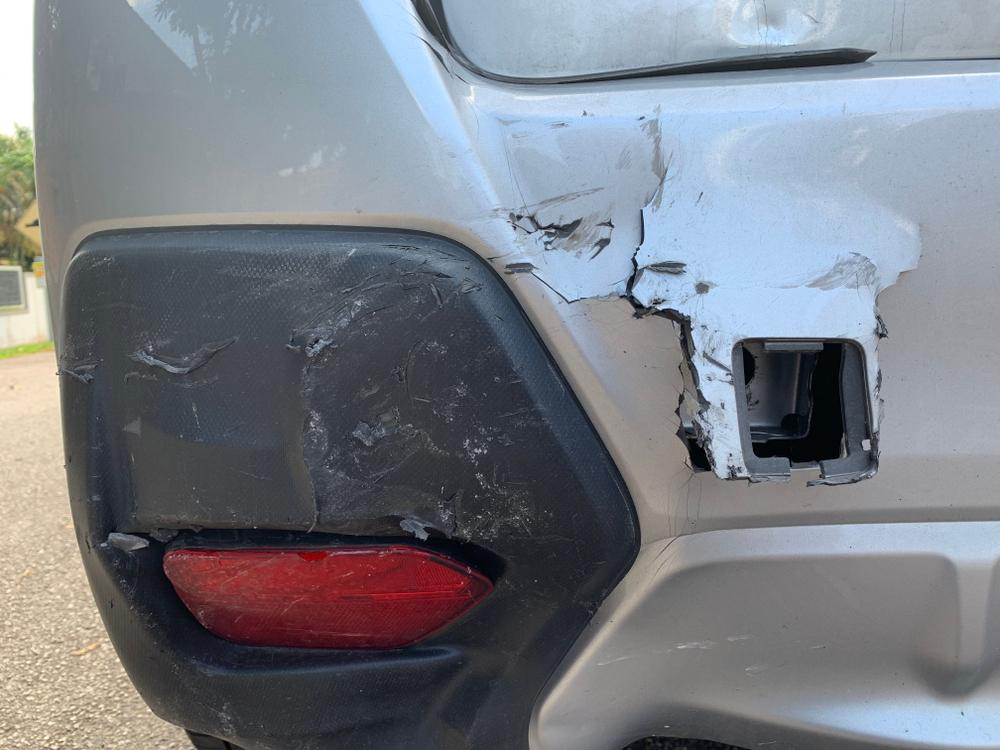crack: (528, 140, 725, 490)
